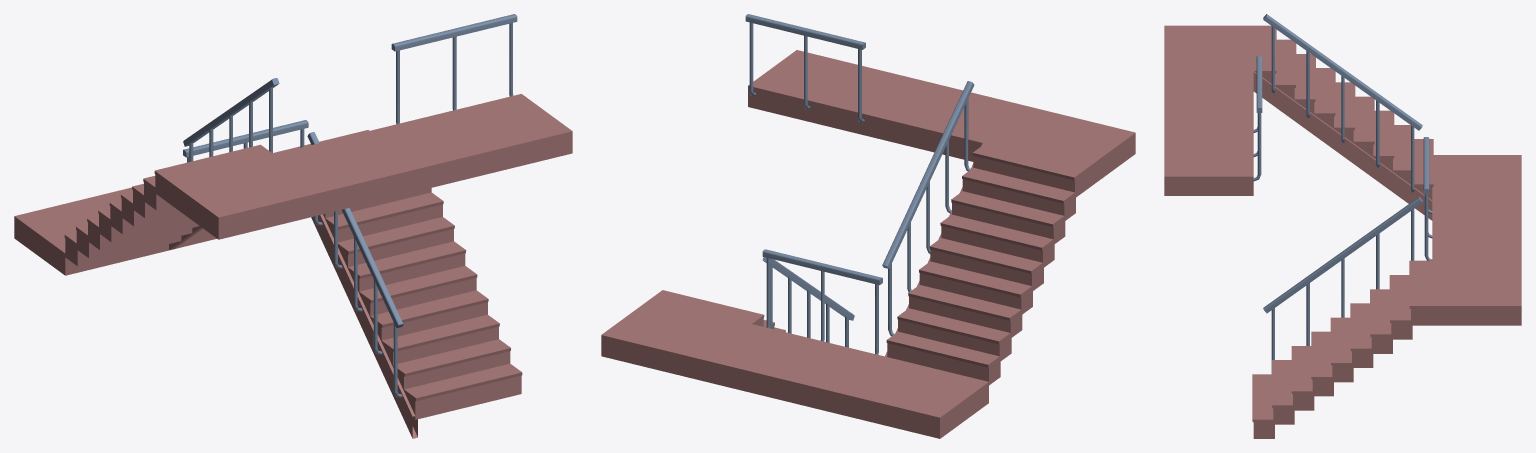
The model's file is SM_StairWell_Infinite_00.fbx.
The picture shows the model from 3 angles, left to right: view 1: azimuth 30°, elevation 25°; view 2: azimuth 150°, elevation 25°; view 3: azimuth 270°, elevation 25°; orthographic projection. The views are drawn at different scales.
Parts seen in each view (by area): view 1: StairWell_Infinite_00; view 2: StairWell_Infinite_00; view 3: StairWell_Infinite_00.
Boxes of the visible parts, x1,y1,x2,y2 form: StairWell_Infinite_00: [14, 14, 572, 438]; StairWell_Infinite_00: [601, 14, 1135, 438]; StairWell_Infinite_00: [1164, 14, 1521, 438].
Size of the model in its own units: 500 by 534 by 500.
